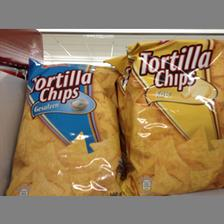Chips: (118, 36, 222, 191), (9, 58, 123, 194)
